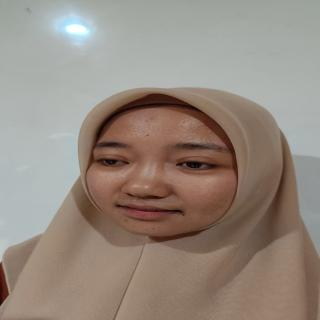Netral: (81, 89, 251, 248)
